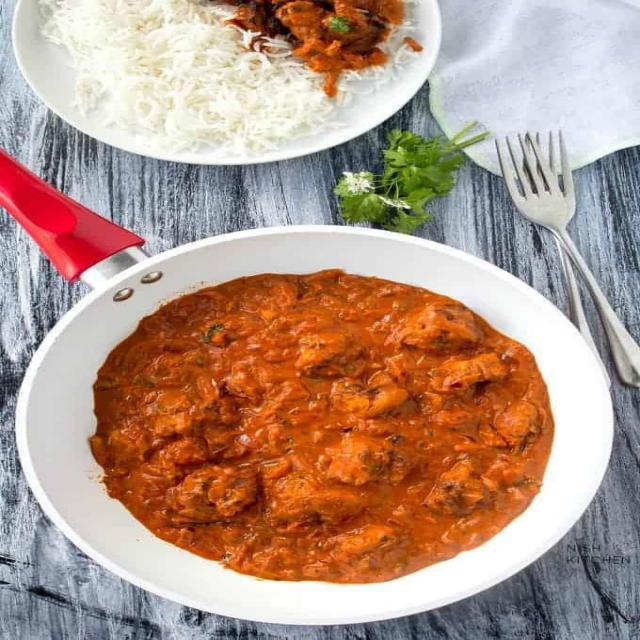chicken: (91, 304, 544, 588)
rice: (35, 0, 296, 142)
